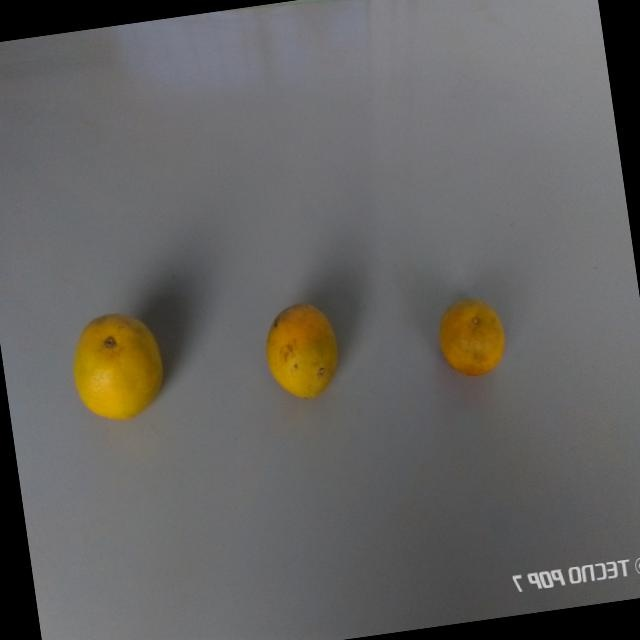agrume: (63, 297, 173, 431), (256, 297, 347, 407), (430, 284, 512, 384)
